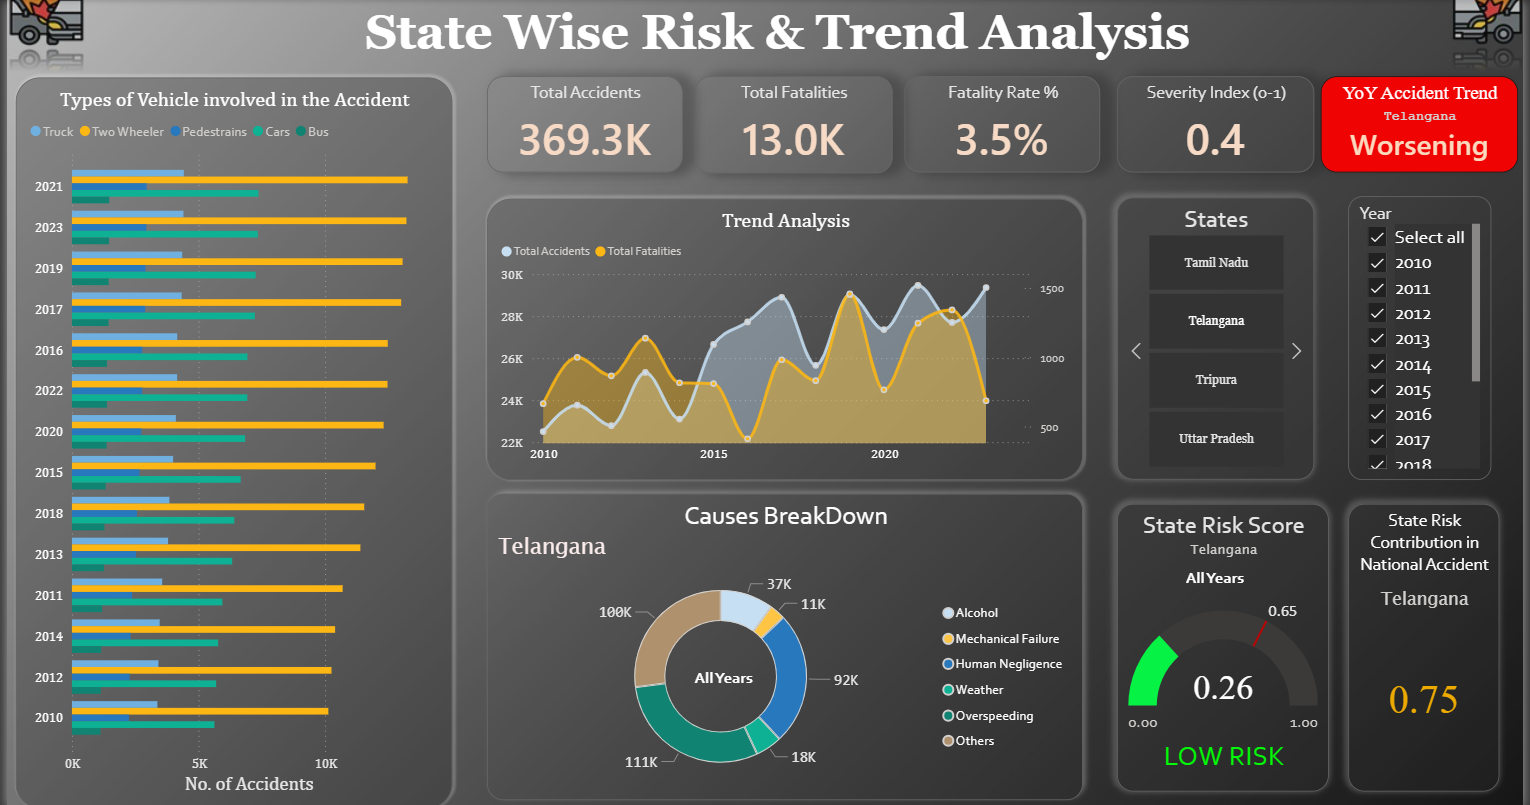

The dashboard page shown, as its layout file describes it:
{"tool":"powerbi","page":{"name":"State Profile","canvas":[1500,800],"ordinal":1},"visuals":[{"type":"slicer","title":"States","fields":{"Values":["India_Accidents_Data_2010_2023.State"]},"box":[1098.3,194.9,194.9,279.3],"z":0},{"type":"card","title":"Total Accidents","fields":{"Values":["Sum(India_Accidents_Data_2010_2023.Total_Accidents)"]},"box":[475,75,193.3,95],"z":1000},{"type":"textbox","box":[320.3,0,884.4,68],"z":2000},{"type":"card","title":"Total Fatalities","fields":{"Values":["India_Accidents_Data_2010_2023.Total Fatalities"]},"box":[680,75.7,195.7,95.7],"z":3000},{"type":"card","title":"Severity Index (0-1)","fields":{"Values":["Avg(India_Accidents_Data_2010_2023.Severity_Index)"]},"box":[1098.3,75,195,95],"z":4000},{"type":"card","title":"Fatality Rate %","fields":{"Values":["Accidents.Fatality Rate %"]},"box":[888.3,75,193.3,95],"z":5000},{"type":"lineChart","title":"Trend Analysis","fields":{"Category":["India_Accidents_Data_2010_2023.Year"],"Y2":["India_Accidents_Data_2010_2023.Total Fatalities"],"Y":["Sum(India_Accidents_Data_2010_2023.Total_Accidents)"]},"box":[475,196.7,590,278.3],"z":6000},{"type":"donutChart","title":"Causes BreakDown","fields":{"Y":["Sum(India_Accidents_Data_2010_2023.Cause_Alcohol)","Sum(India_Accidents_Data_2010_2023.Cause_Mechanical)","Sum(India_Accidents_Data_2010_2023.Cause_Negligence)","Sum(India_Accidents_Data_2010_2023.Cause_Weather)","Sum(India_Accidents_Data_2010_2023.Cause_Overspeeding)","Sum(India_Accidents_Data_2010_2023.Cause_Other)"]},"box":[475,488.6,590,303],"z":7000},{"type":"gauge","title":"State Risk Score","fields":{"Y":["India_Accidents_Data_2010_2023.State Risk Score"],"TargetValue":["India_Accidents_Data_2010_2023.Risk Threshold"]},"box":[1098.3,498.7,209.8,284.8],"z":8000},{"type":"card","fields":{"Values":["India_Accidents_Data_2010_2023.Risk Label"]},"box":[1102.4,709.9,205.8,73.6],"z":9000},{"type":"slicer","title":"Year","fields":{"Values":["India_Accidents_Data_2010_2023.Year"]},"box":[1327.2,194.5,141.6,280.5],"z":10000},{"type":"card","title":"YoY Accident Trend","fields":{"Values":["Accidents.Risk Trend"]},"box":[1300,75,195,95],"z":11000},{"type":"clusteredBarChart","title":"Types of  Vehicle involved in the Accident","fields":{"Category":["Accidents.Year"],"Y":["Sum(Accidents.Truck_Involved)","Sum(Accidents.TwoWheeler_Involved)","Sum(Accidents.Pedestrian_Involved)","Sum(Accidents.Car_Involved)","Sum(Accidents.Bus_Involved)"]},"box":[8.7,76.7,431.7,723.6],"z":12000},{"type":"card","title":"State Risk Contribution in National Accident","fields":{"Values":["Accidents.Risk Contribution %"]},"box":[1327.2,498.9,149.5,284.5],"z":13000},{"type":"card","fields":{"Values":["Accidents.Selected Year"]},"box":[669.1,647.3,80.4,50.4],"z":13001},{"type":"card","fields":{"Values":["Accidents.Selected Year"]},"box":[1155.5,547.8,80.4,50.4],"z":13002}]}

Visuals, with their boxes in screenshot pixels (x1, y1, x2, y2), scaled from the page's 1500x800 canvas onto the 1530x805 screenshot:
"States" slicer: bbox(1120, 196, 1319, 477)
"Total Accidents" card: bbox(484, 75, 682, 171)
textbox: bbox(327, 0, 1229, 68)
"Total Fatalities" card: bbox(694, 76, 893, 172)
"Severity Index (0-1)" card: bbox(1120, 75, 1319, 171)
"Fatality Rate %" card: bbox(906, 75, 1103, 171)
"Trend Analysis" lineChart: bbox(484, 198, 1086, 478)
"Causes BreakDown" donutChart: bbox(484, 492, 1086, 797)
"State Risk Score" gauge: bbox(1120, 502, 1334, 788)
card - India_Accidents_Data_2010_2023.Risk Label: bbox(1124, 714, 1334, 788)
"Year" slicer: bbox(1354, 196, 1498, 478)
"YoY Accident Trend" card: bbox(1326, 75, 1525, 171)
"Types of  Vehicle involved in the Accident" clusteredBarChart: bbox(9, 77, 449, 804)
"State Risk Contribution in National Accident" card: bbox(1354, 502, 1506, 788)
card - Accidents.Selected Year: bbox(682, 651, 764, 702)
card - Accidents.Selected Year: bbox(1179, 551, 1261, 602)
